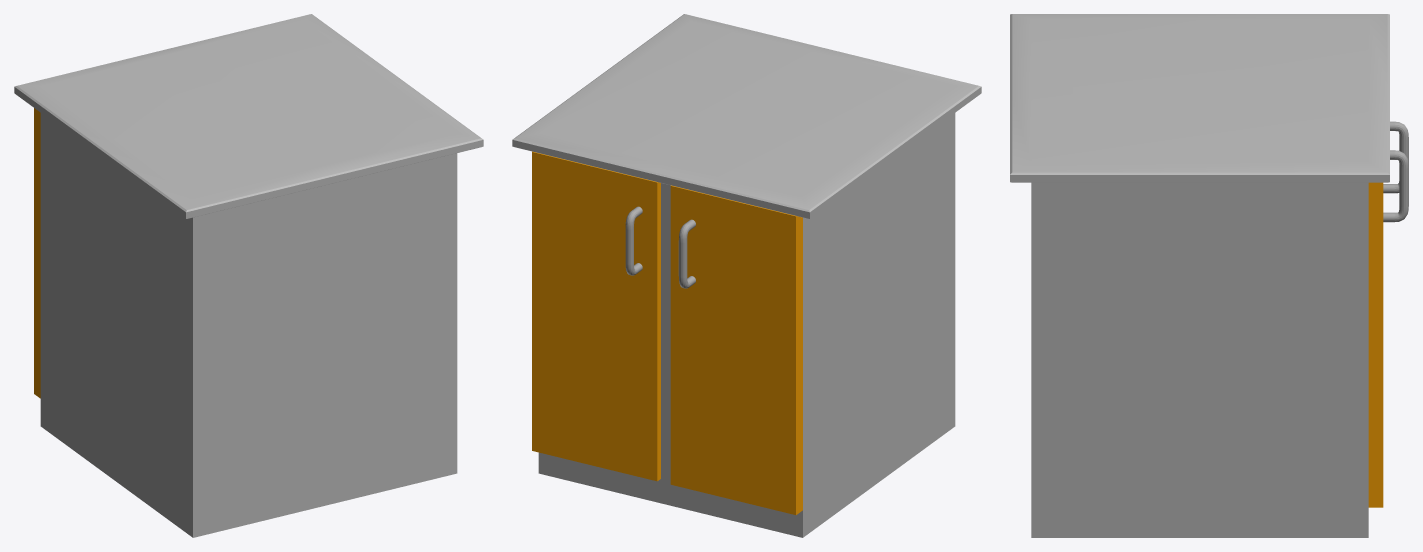
Rendered from hospital_cabinet.fbx.
The picture shows the model from 3 angles, left to right: view 1: azimuth 30°, elevation 25°; view 2: azimuth 150°, elevation 25°; view 3: azimuth 270°, elevation 25°; orthographic projection. The views are drawn at different scales.
Visible parts, largest first — view 1: med_cabinet; view 2: med_cabinet, cabinet_handle_r, cabinet_handle_l; view 3: med_cabinet, cabinet_handle_l, cabinet_handle_r.
Boxes of the visible parts, bbox=[...] form: med_cabinet: bbox=[14, 14, 483, 537]; med_cabinet: bbox=[512, 14, 981, 537]; cabinet_handle_r: bbox=[678, 219, 695, 288]; cabinet_handle_l: bbox=[625, 206, 642, 275]; med_cabinet: bbox=[1010, 14, 1389, 537]; cabinet_handle_l: bbox=[1383, 150, 1408, 222]; cabinet_handle_r: bbox=[1383, 121, 1408, 193].
Bounding box in the file's own units: 113 × 123 × 118.
3 materials, 1 textured.
